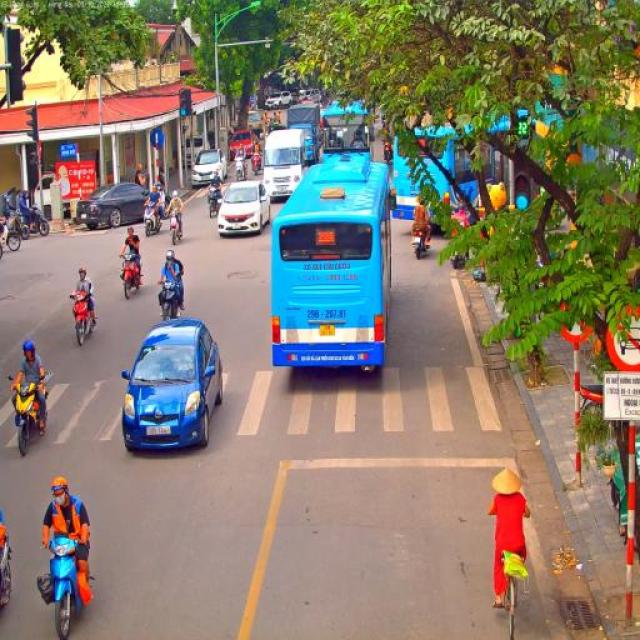bus: (270, 151, 392, 379), (390, 109, 532, 227), (319, 100, 375, 166)
car: (120, 317, 225, 453), (76, 182, 148, 228), (216, 181, 272, 239), (190, 148, 228, 188), (228, 130, 254, 161), (262, 90, 294, 110), (298, 88, 322, 104), (320, 98, 334, 110)
motorcycle: (38, 532, 97, 640), (8, 372, 54, 458), (68, 291, 98, 347), (118, 252, 144, 300), (575, 383, 604, 421), (16, 206, 50, 238), (158, 278, 182, 322), (0, 538, 14, 608), (450, 230, 471, 270), (142, 202, 164, 238), (1, 216, 22, 252), (412, 224, 432, 260), (167, 210, 184, 246), (207, 186, 223, 218), (234, 155, 248, 183), (0, 220, 9, 260), (249, 151, 262, 175), (381, 140, 392, 162)
truck: (261, 127, 309, 202), (279, 103, 323, 167), (245, 110, 264, 140)
